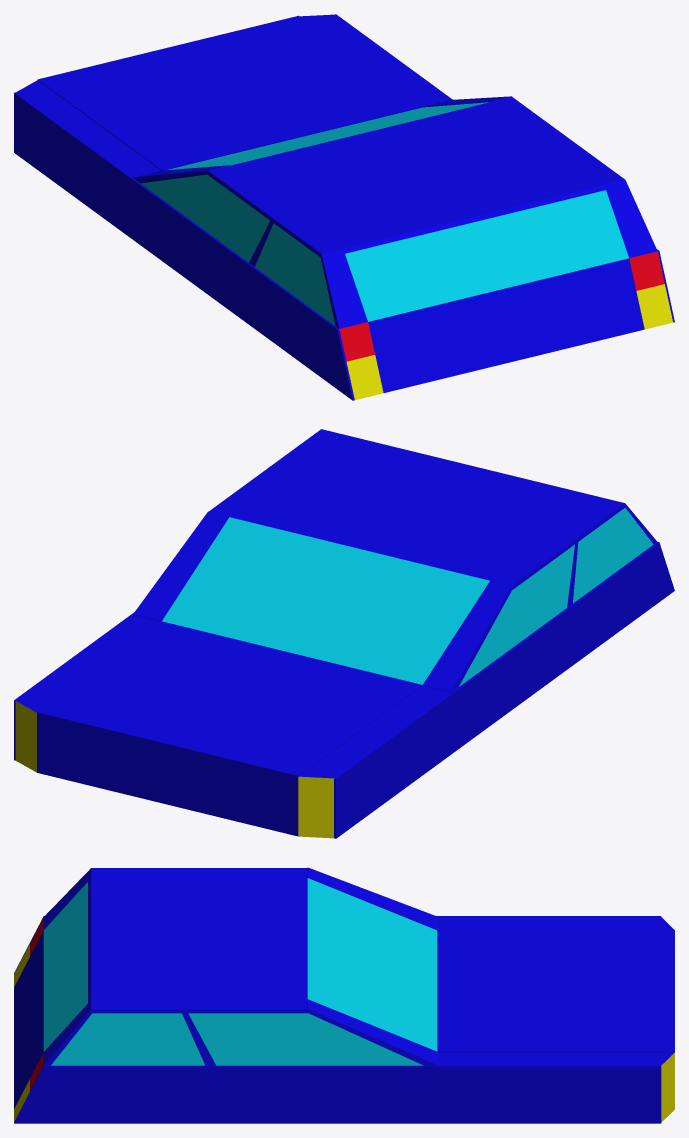
File: car5.fbx
The picture shows the model from 3 angles, top to bottom: view 1: azimuth 30°, elevation 25°; view 2: azimuth 150°, elevation 25°; view 3: azimuth 270°, elevation 25°; orthographic projection. The views are drawn at different scales.
Visible parts, largest first — view 1: Cube; view 2: Cube; view 3: Cube.
Boxes of the visible parts, x1,y1,x2,y2 form: Cube: [14, 14, 674, 400]; Cube: [14, 429, 674, 838]; Cube: [14, 867, 674, 1123].
Size of the model in its own units: 458 by 157 by 852.
